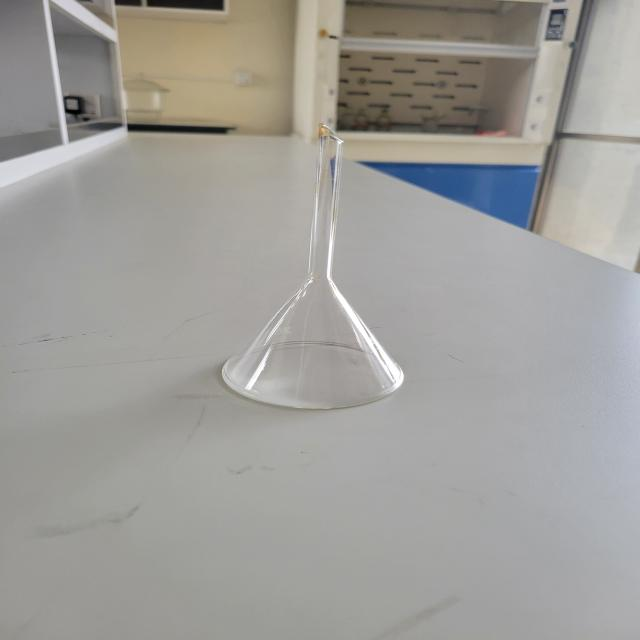Funnel: (191, 89, 433, 432)
